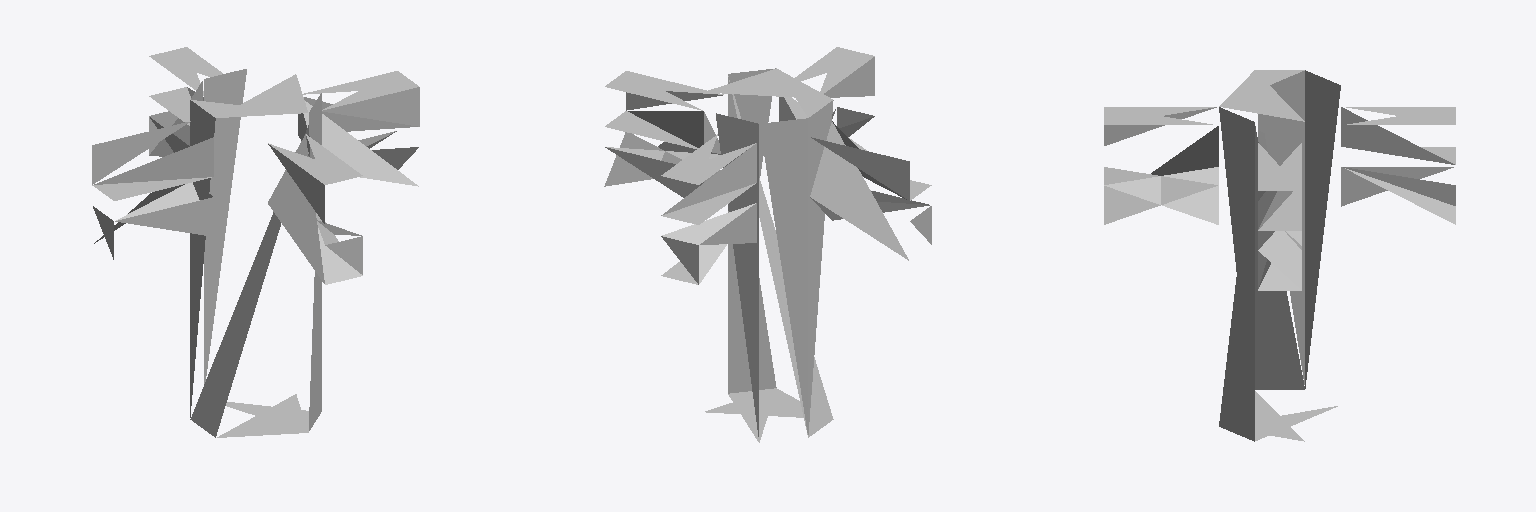
Rendered from fancy_fence.obj.
3 views of the same model, side by side, from view 1: azimuth 30°, elevation 25°; view 2: azimuth 150°, elevation 25°; view 3: azimuth 270°, elevation 25° (orthographic).
Parts seen in each view (by area): view 1: fancy_fence:post group, group fancy_fence:west, group fancy_fence:north, group fancy_fence:south; view 2: fancy_fence:post group, group fancy_fence:north, group fancy_fence:south, group fancy_fence:west; view 3: fancy_fence:post group, group fancy_fence:west, group fancy_fence:south, group fancy_fence:north.
Part boxes in pixels (x1,y1,x2,y2): fancy_fence:post group: (149,69,321,437); group fancy_fence:west: (115,134,362,284); group fancy_fence:north: (92,47,222,259); group fancy_fence:south: (298,71,419,186); fancy_fence:post group: (661,68,833,442); group fancy_fence:north: (661,121,931,284); group fancy_fence:south: (604,71,723,197); group fancy_fence:west: (779,47,929,220); fancy_fence:post group: (1219,70,1455,441); group fancy_fence:west: (1104,107,1290,224); group fancy_fence:south: (1258,143,1301,290); group fancy_fence:north: (1258,107,1455,224).
Size of the model in its own units: 1 by 1 by 1.